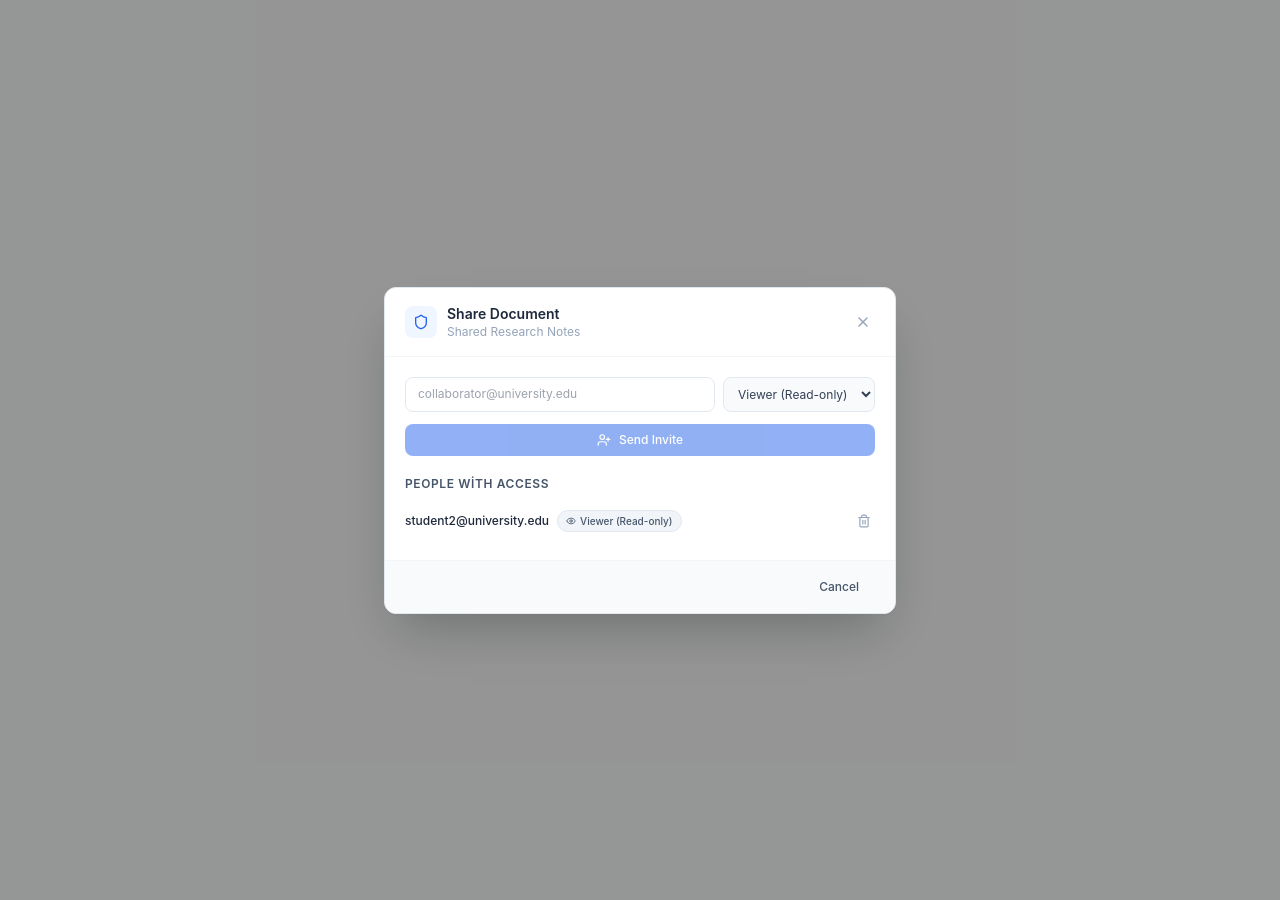
Scenario: Web Documents & Cloud Storage Layer (@citedocs/web) › ShareDialog › submits email share with selected role and unshares
Type "colleague@university.edu" into the field with test id "share-email-input" at (560, 394), box x1=405 y1=376 x2=715 y2=412
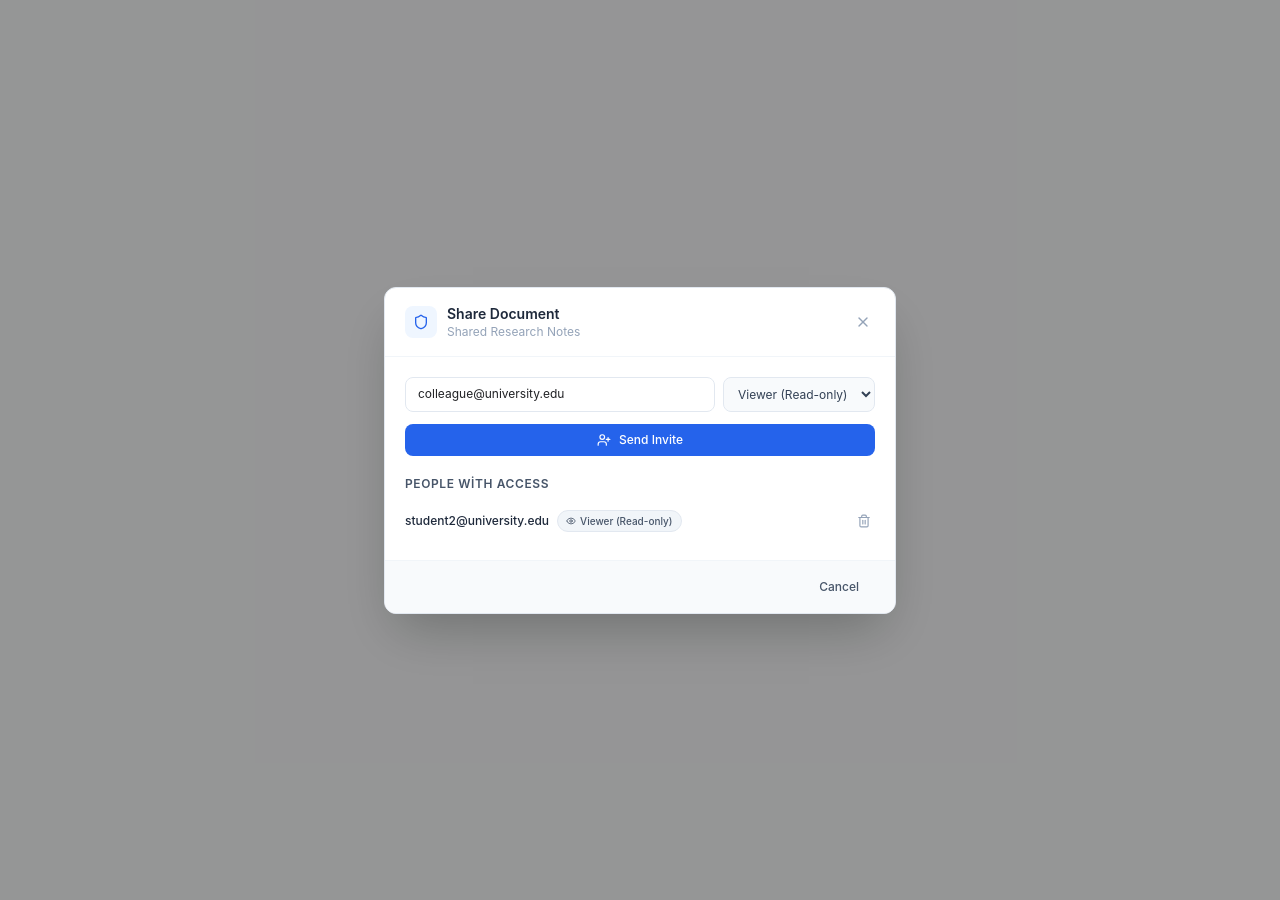
Select "Editor (Can edit)" in the dropdown with test id "share-role-select" at (799, 394), box x1=723 y1=376 x2=875 y2=412
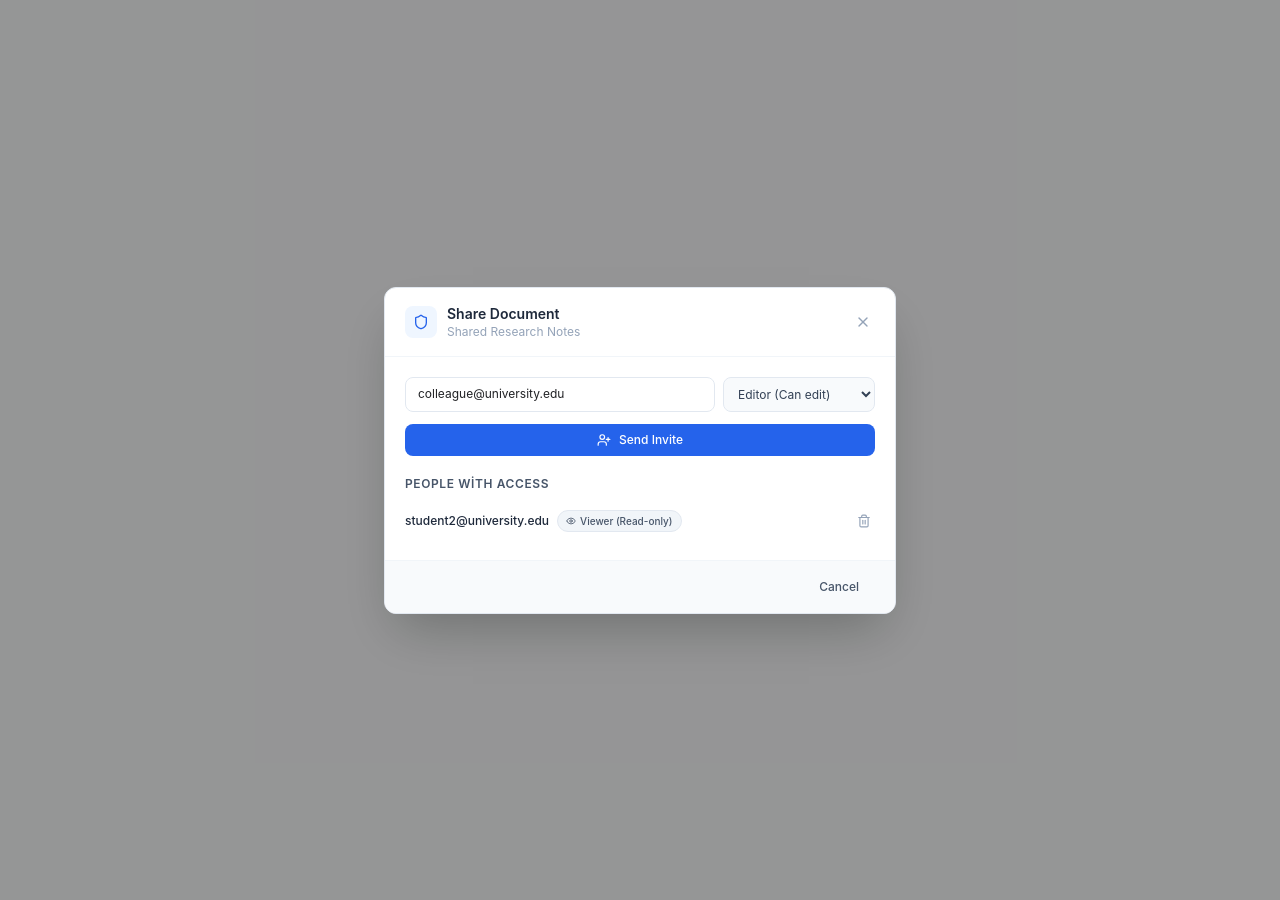
Submit the form with test id "share-email-input", box x1=405 y1=376 x2=875 y2=456
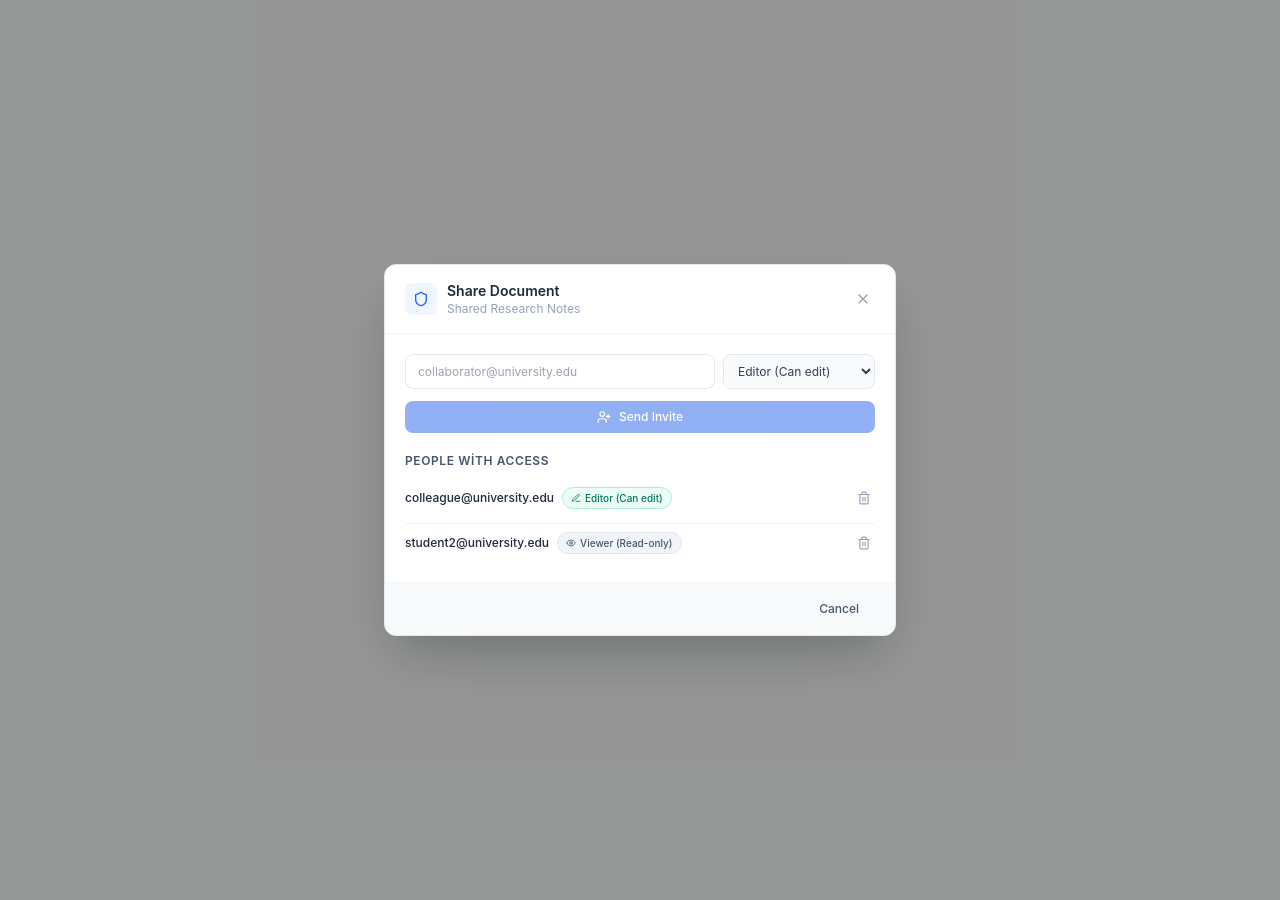
Result: the text "colleague@university.edu" is shown at x1=405 y1=490 x2=554 y2=506
Click the button with test id "unshare-btn-share-1" at (864, 543), box x1=853 y1=532 x2=875 y2=554
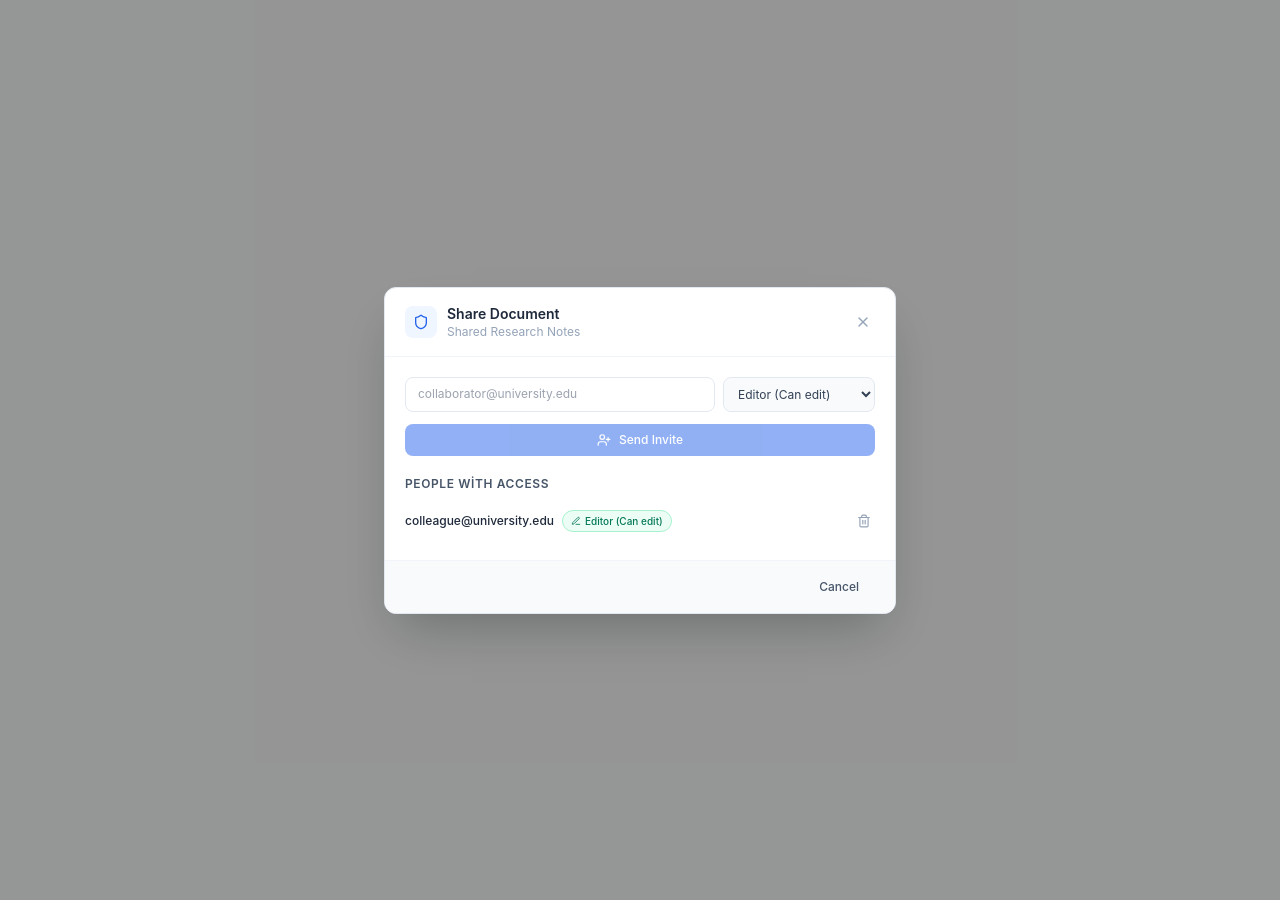
Result: the text "student2@university.edu" is gone
